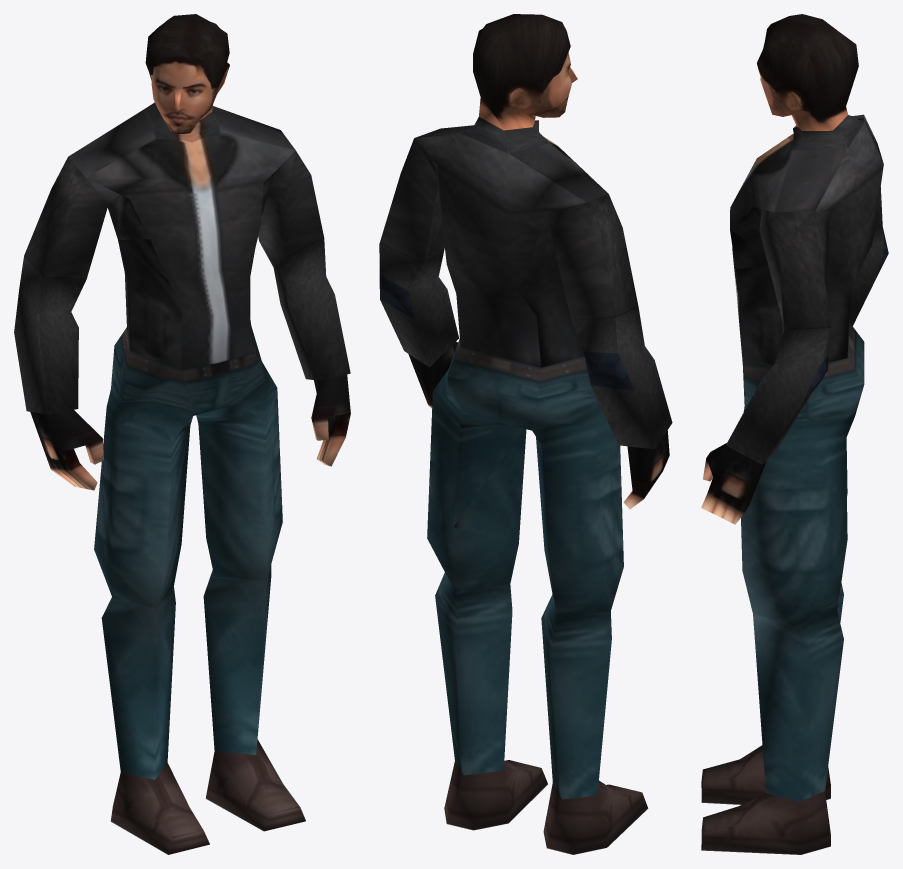
File: Manuel97.obj
3 views of the same model, side by side, from view 1: azimuth 30°, elevation 25°; view 2: azimuth 150°, elevation 25°; view 3: azimuth 270°, elevation 25° (orthographic). The views are drawn at different scales.
Parts seen in each view (by area): view 1: leon; view 2: leon; view 3: leon.
Part boxes in pixels (x1,y1,x2,y2): leon: (14, 14, 350, 854); leon: (379, 14, 672, 854); leon: (701, 14, 888, 854).
Bounding box in the file's own units: 4.61 × 12.19 × 2.61.
1 material, 1 textured.
